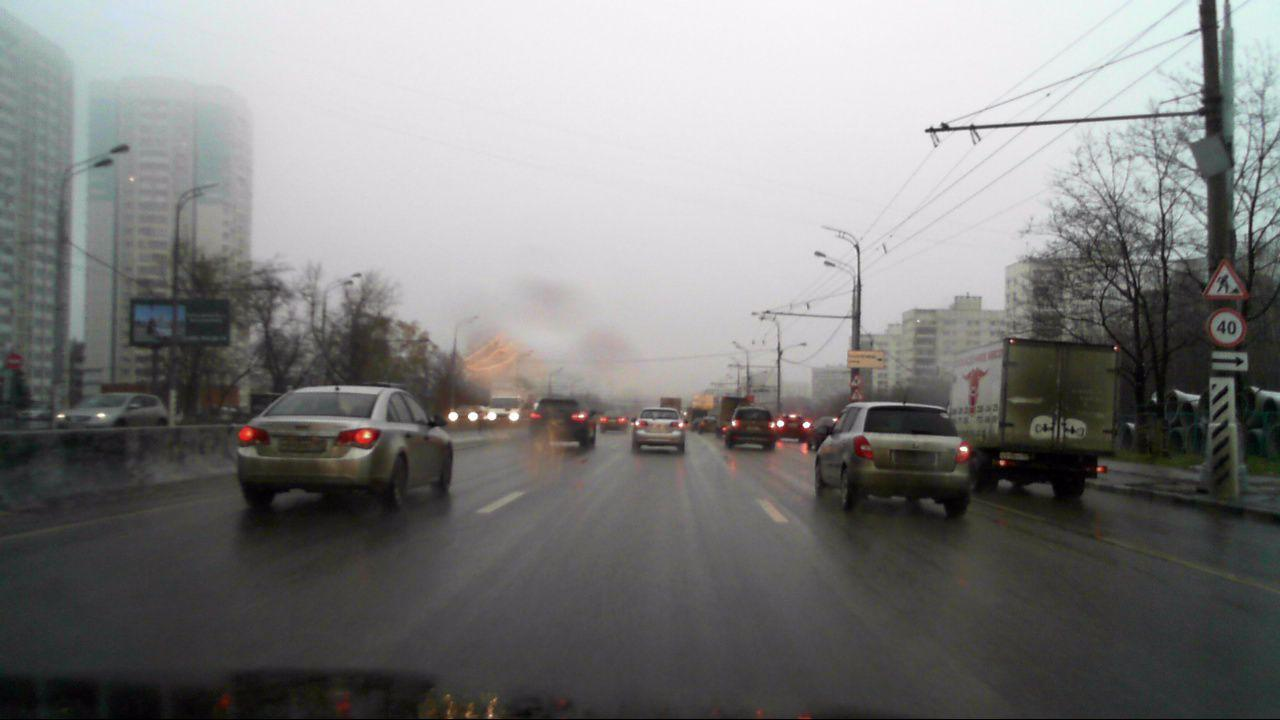1_20_2: (849, 387, 863, 400)
1_25: (1204, 257, 1249, 300)
3_24: (1206, 308, 1245, 346), (849, 373, 863, 385)
8_3_1: (1208, 350, 1250, 372)
